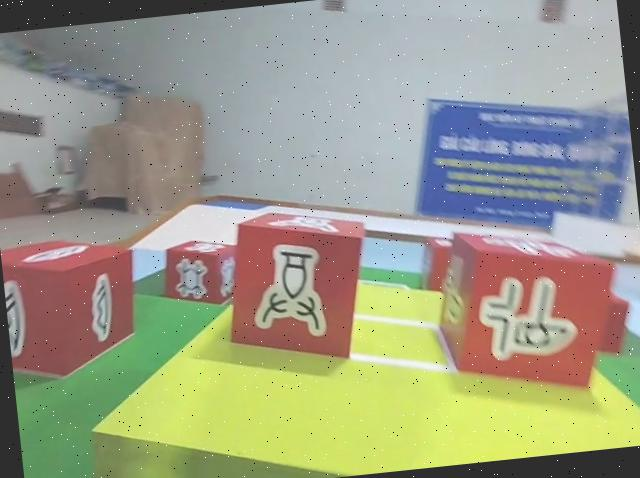R2 Real: (420, 207, 629, 412), (215, 200, 380, 373), (0, 227, 146, 379), (160, 235, 245, 312)
